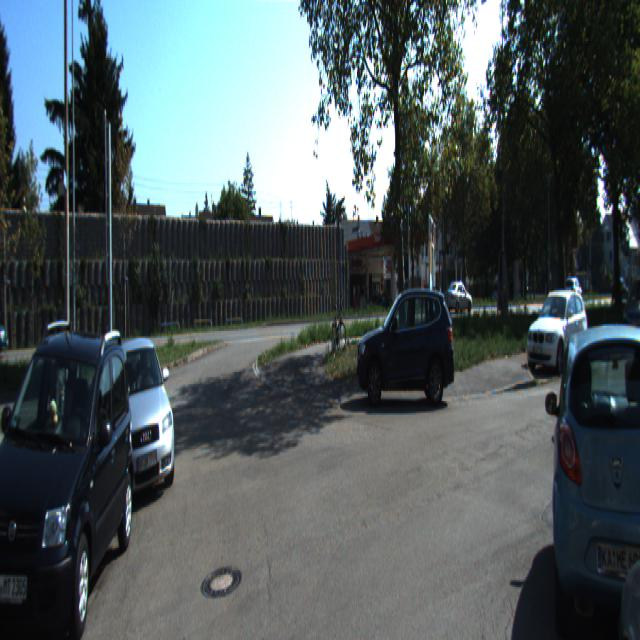Car: (0, 309, 142, 638), (549, 299, 639, 638), (102, 326, 182, 514), (353, 273, 457, 405), (610, 316, 640, 638), (522, 289, 590, 376), (619, 276, 639, 347), (443, 278, 474, 314), (0, 297, 11, 360)
